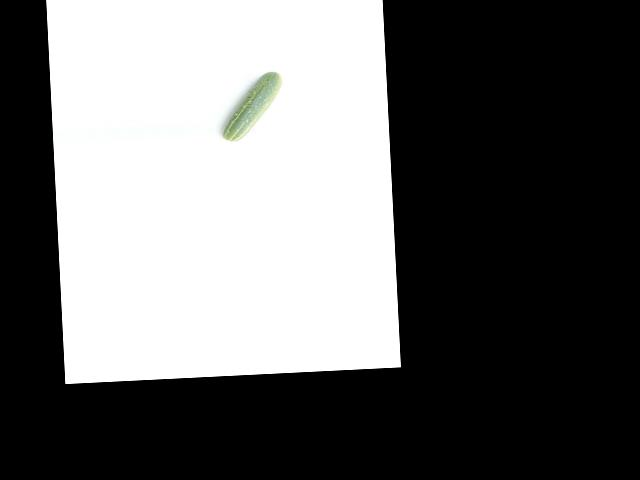cucumber: (219, 71, 285, 142)
